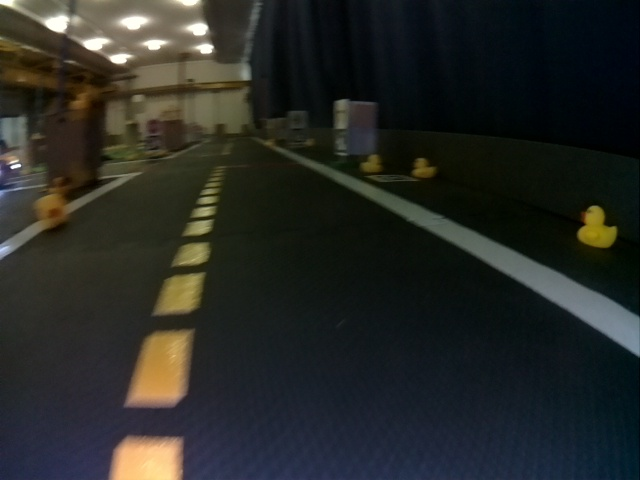Duckie: (578, 206, 617, 248), (35, 194, 64, 227), (413, 158, 435, 178), (361, 154, 383, 173)
QR code: (335, 129, 344, 153)
